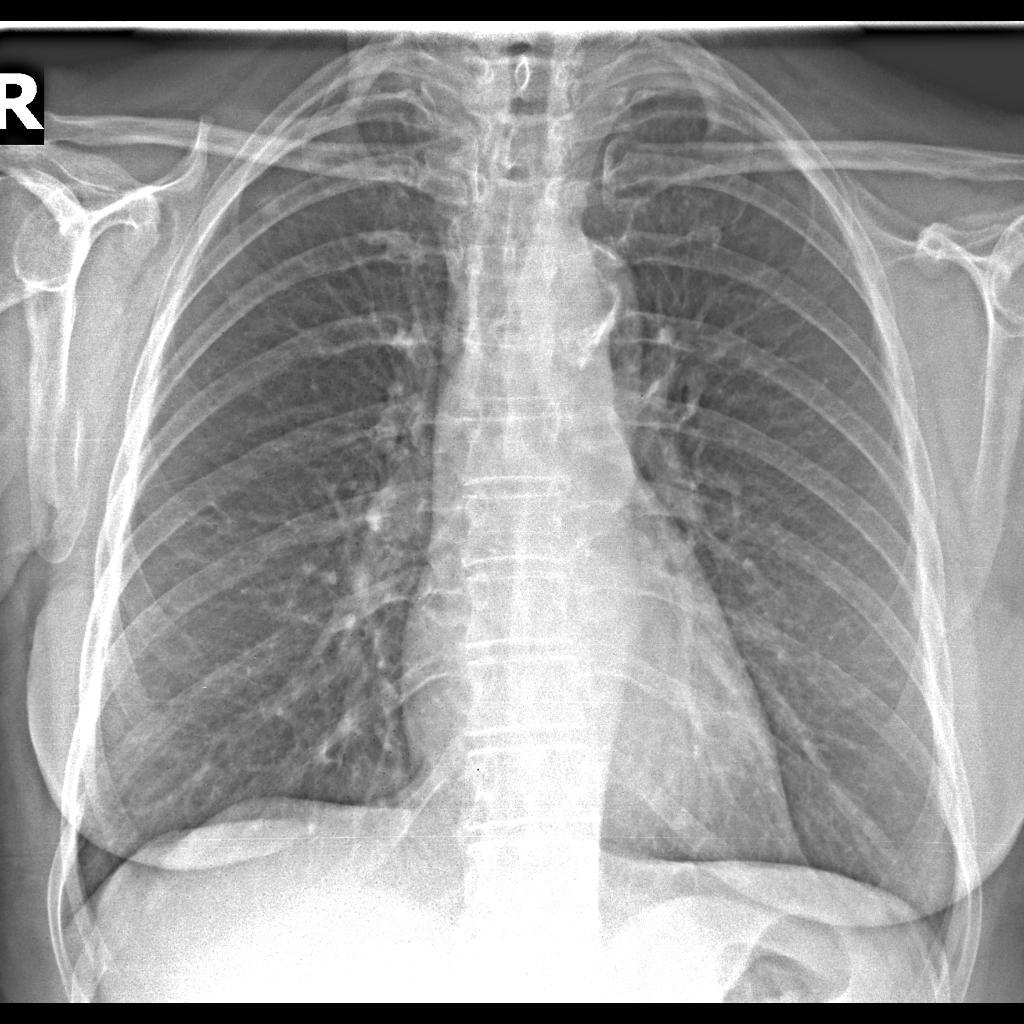Nodule: (253, 187, 293, 237)
